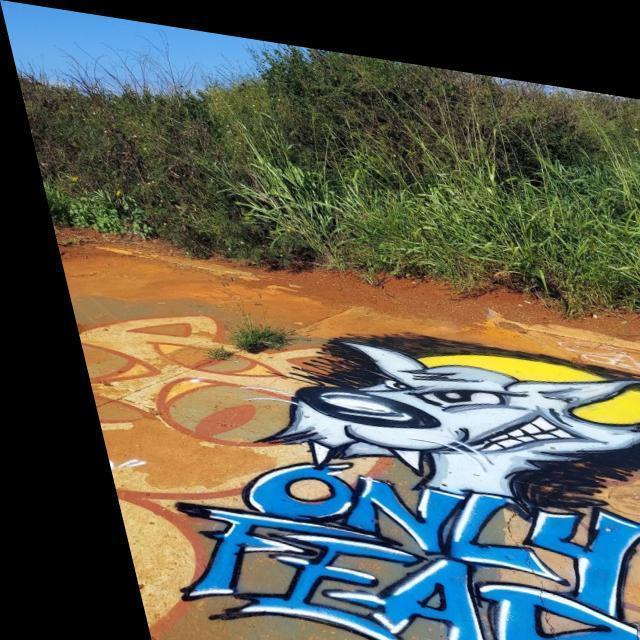nonspitting: (176, 460, 640, 640)
spitting: (256, 336, 640, 498)
